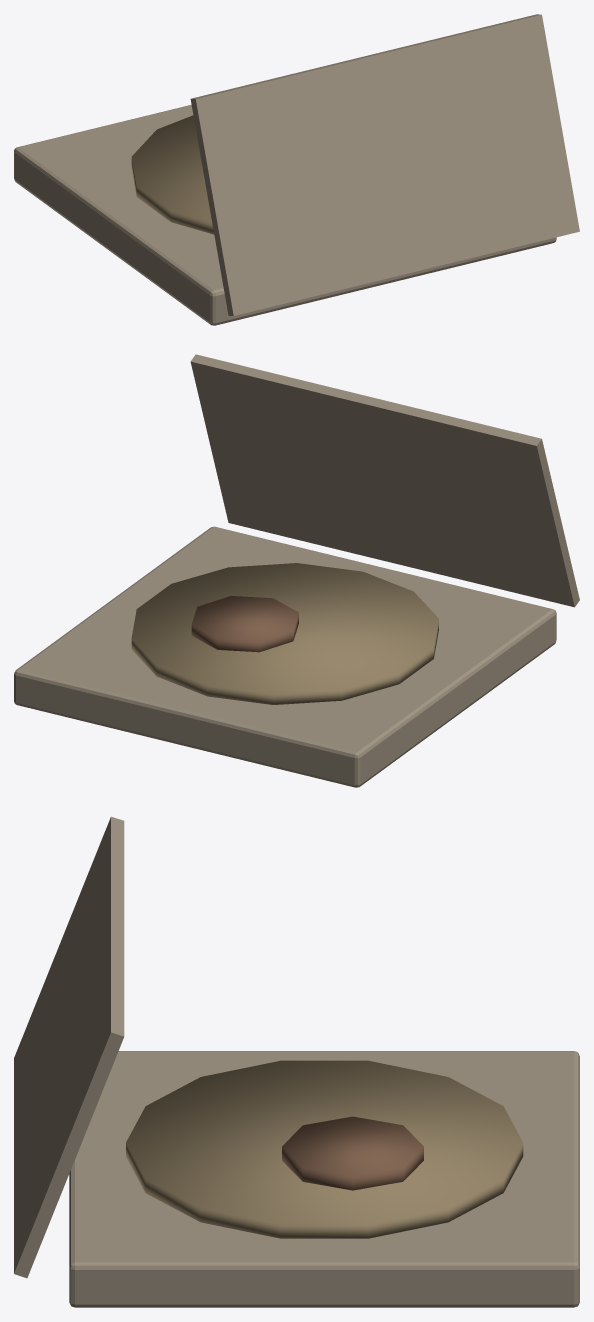
The model's file is pizza_box.glb.
The picture shows the model from 3 angles, top to bottom: view 1: azimuth 30°, elevation 25°; view 2: azimuth 150°, elevation 25°; view 3: azimuth 270°, elevation 25°; orthographic projection. The views are drawn at different scales.
Visible parts, largest first — view 1: pizza_box; view 2: pizza_box; view 3: pizza_box.
Boxes of the visible parts, x1,y1,x2,y2 form: pizza_box: (14, 14, 579, 325); pizza_box: (14, 354, 579, 787); pizza_box: (14, 816, 579, 1307).
Size of the model in its own units: 0.36 by 0.2157 by 0.3989.
